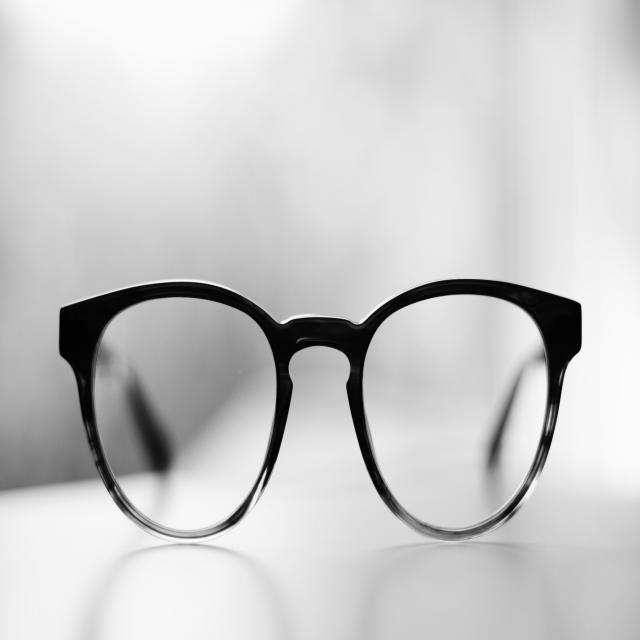Glass: (75, 291, 288, 535), (358, 296, 570, 531)
